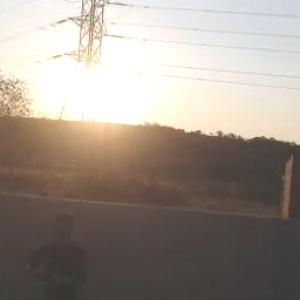follow: (19, 199, 91, 299)
